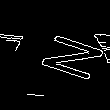N_NW: (15, 27, 95, 83)
